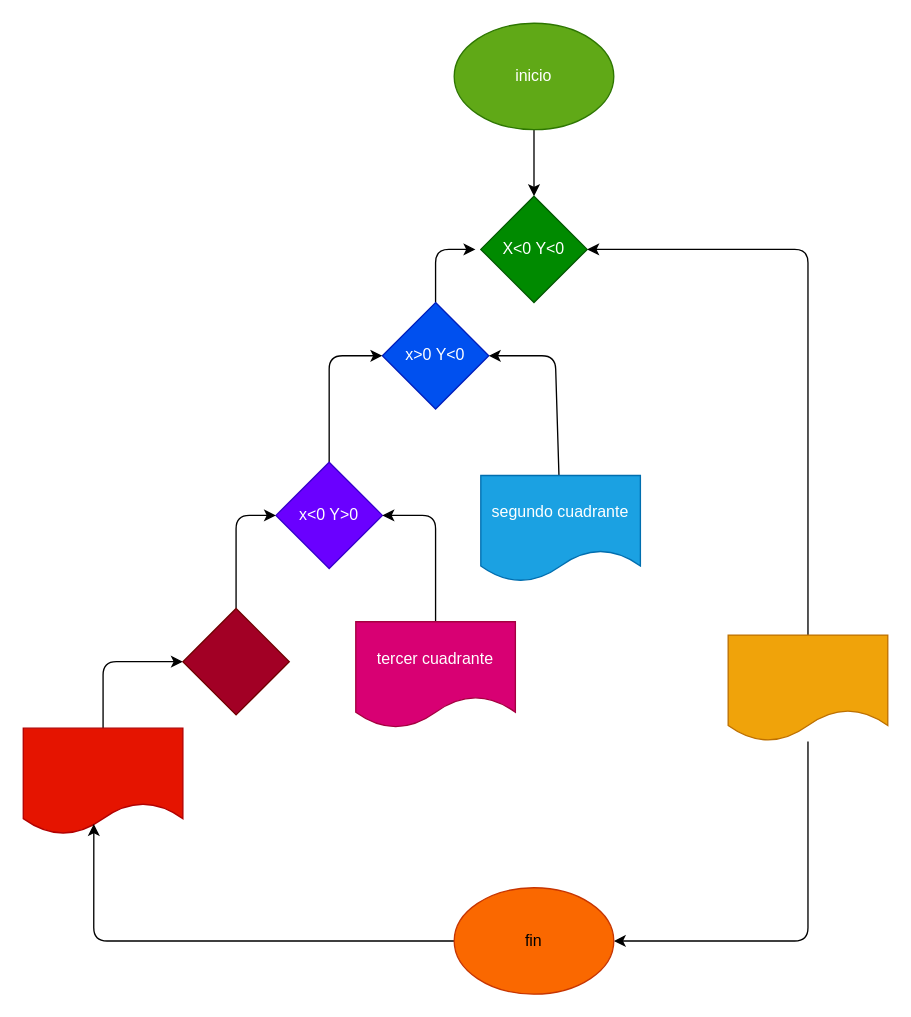
The diagram is 911 pixels wide and 1017 high, and some of its shapes have lost their labels. The box of each missing label's shape, as (x1, y1, x2, y2) in pixels:
cuarto cuadrante: (22, 727, 183, 835)
primer cuadranr: (727, 634, 888, 741)
x>0 Y>0: (182, 607, 289, 715)
